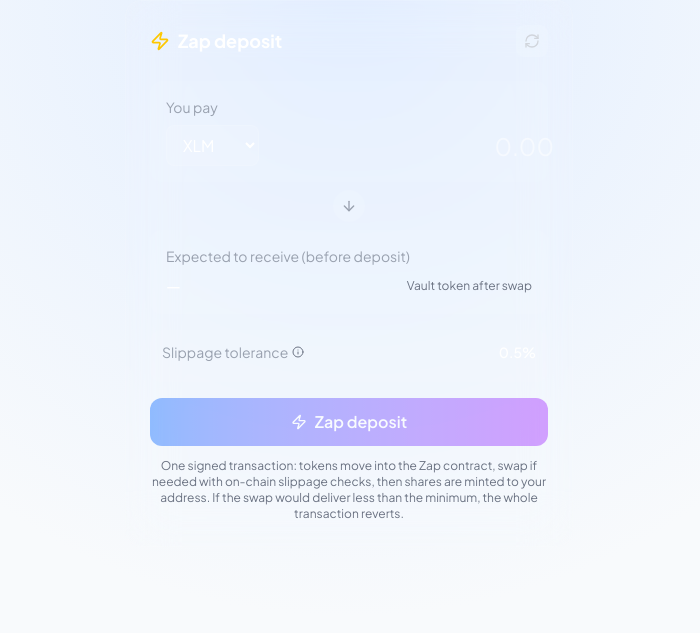
Test: ZapDepositPanel › slippage adjustment › shows warning for high slippage
This screenshot has width=700, height=633.
Click the 2nd button: (298,352) [292,346,304,358]
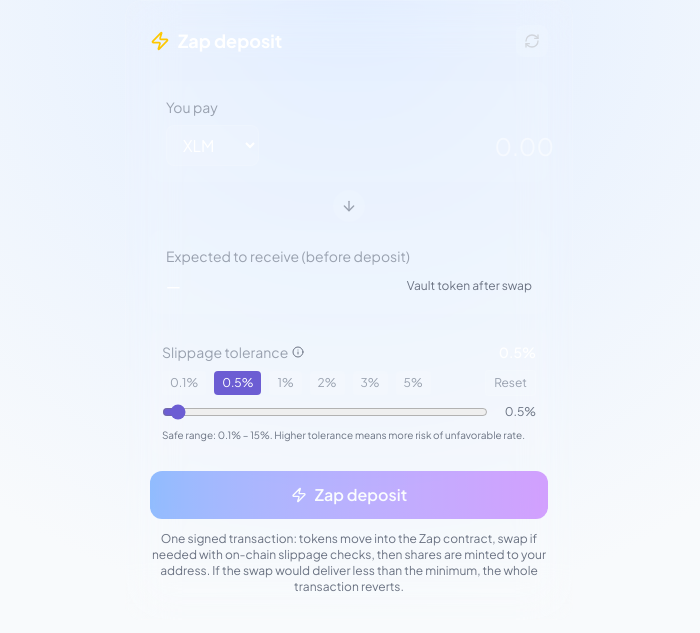
Click the button "5%": (413,383) [396,371,431,395]
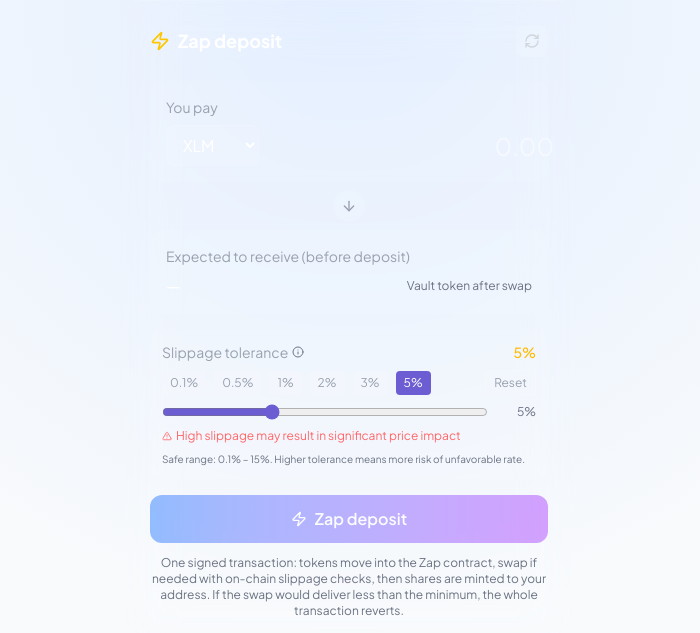
Now the text "High slippage may result in significant price impact" is shown, box [162,428,461,443]
